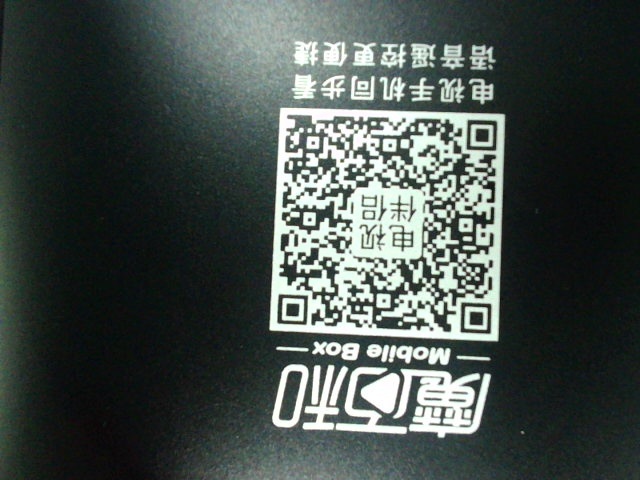AZ_MobileBox: (260, 34, 516, 436)
